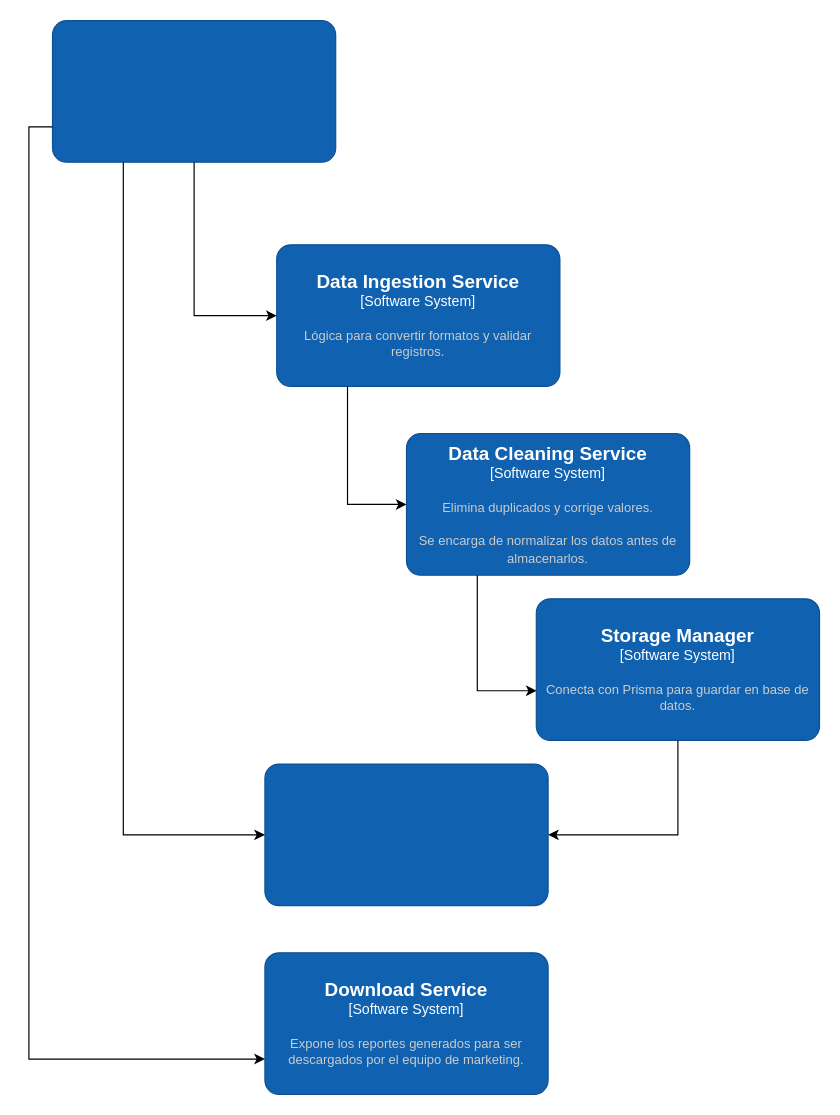
This 840x1115 diagram has some shape labels left out. Each missing label, with the centre of its shape:
API Controller [Software System] Gestiona las solicitudes desde la WebApp.: the point at 193,90
Report Generator [Software System] Genera los archivos Excel.: the point at 406,834
